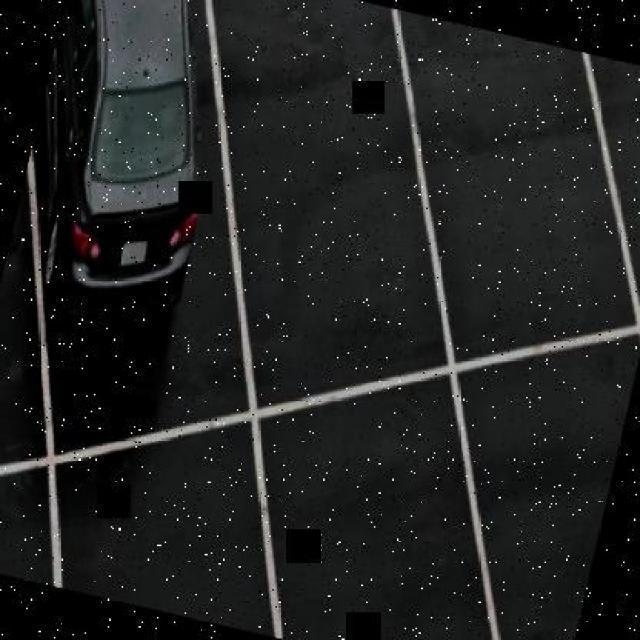car: (14, 0, 232, 317)
free: (222, 31, 416, 320), (416, 69, 602, 360), (68, 432, 236, 618), (289, 475, 442, 640), (502, 401, 612, 604), (607, 74, 640, 228)
